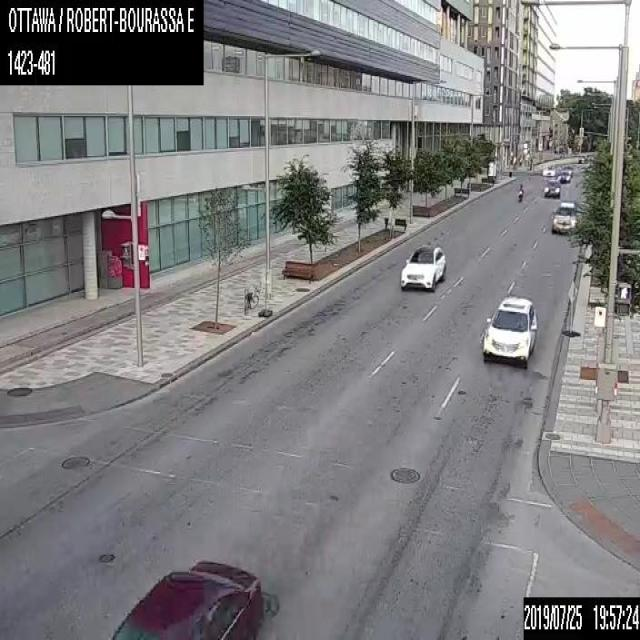vehicle: (111, 557, 262, 639), (481, 294, 537, 366), (399, 242, 446, 290), (551, 200, 578, 233), (544, 179, 560, 197), (556, 170, 570, 182), (515, 182, 523, 202), (542, 164, 555, 176), (559, 164, 572, 176)
